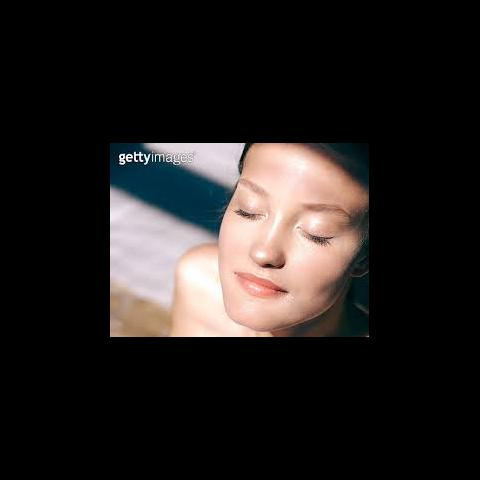closed: (234, 175, 336, 252)
